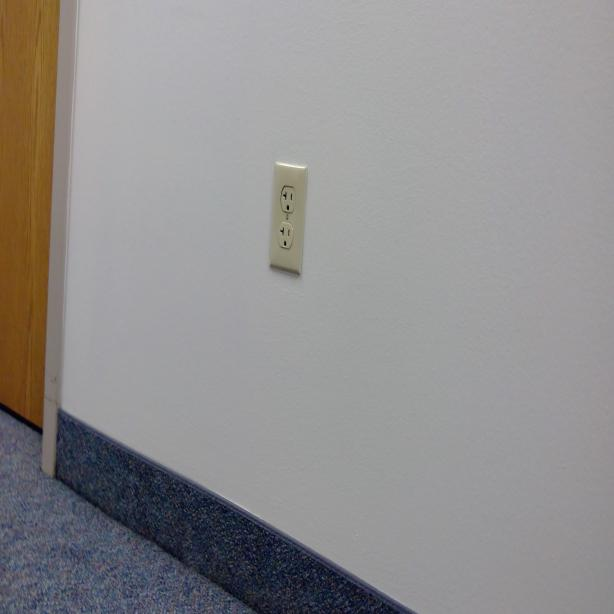typeb: (280, 182, 296, 214), (277, 220, 293, 248)
